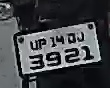1: (80, 44, 95, 62), (49, 36, 58, 48)
2: (63, 48, 81, 64)
3: (25, 52, 46, 70)
4: (56, 34, 65, 46)
9: (44, 49, 63, 67)
D: (66, 32, 77, 44)
J: (76, 32, 87, 43)
P: (36, 37, 47, 50)
U: (29, 39, 38, 52)
